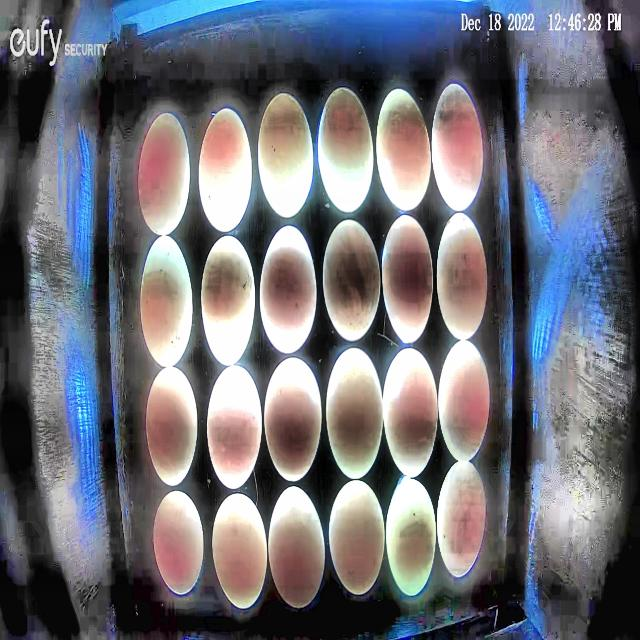UF: (325, 345, 384, 481), (263, 354, 324, 483), (259, 223, 317, 356), (322, 217, 382, 342), (383, 347, 439, 479), (267, 484, 326, 608), (257, 93, 314, 219), (318, 87, 375, 213), (201, 235, 255, 367), (136, 111, 192, 238), (207, 364, 263, 491), (198, 108, 254, 234), (140, 235, 193, 368), (376, 87, 432, 212), (381, 213, 434, 344), (431, 83, 484, 213), (328, 478, 386, 596), (436, 212, 488, 341), (437, 338, 490, 463), (212, 492, 268, 608), (146, 366, 198, 486), (436, 457, 487, 579), (385, 476, 436, 596), (153, 488, 204, 596)
